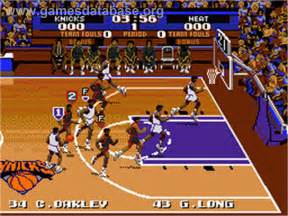basketball: (66, 135, 73, 141)
